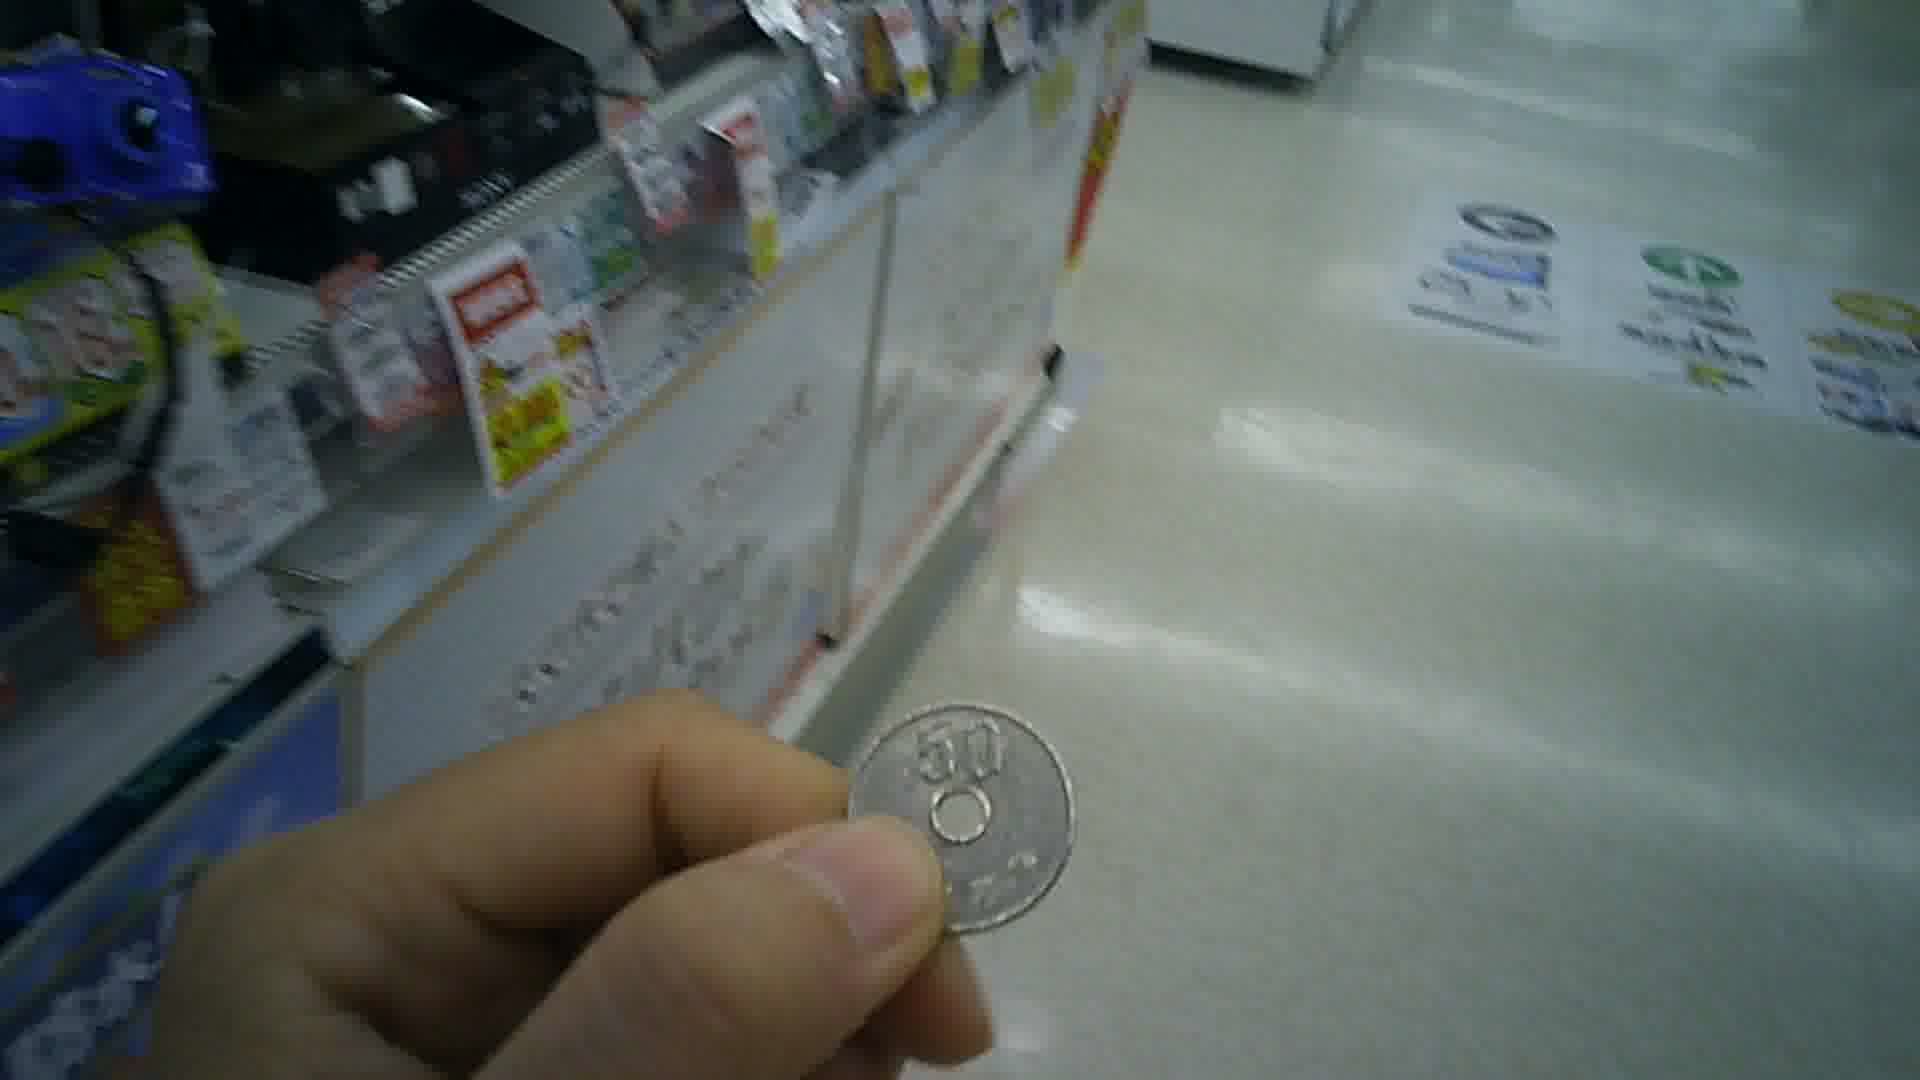50 Yen: (843, 705, 1081, 945)
